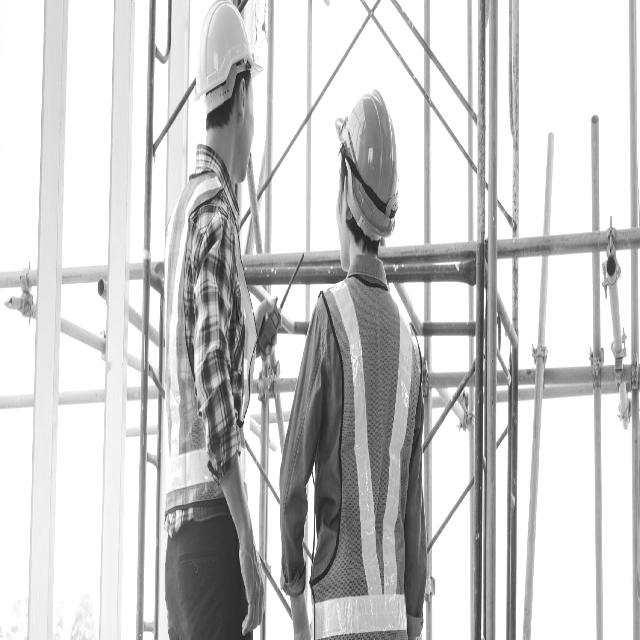face_nomask: (224, 83, 258, 181)
hand_noglove: (230, 531, 270, 636)
head_helmet: (335, 89, 398, 238), (193, 1, 264, 104)
person: (282, 87, 422, 640), (156, 1, 276, 638)
vest: (309, 271, 419, 640), (162, 172, 257, 512)
